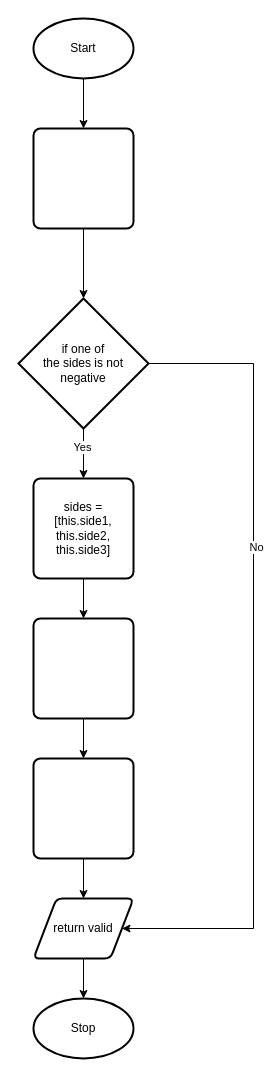
Some shapes in this 280 by 1076 pixel diagram are drawn without their labels. Each missing label, with the centre of its shape:
"Sort sides in ascending order" goes at point 83,668.
"valid = false" goes at point 83,178.
"valid = side[0], + side[1] > sides[2]" goes at point 83,808.
